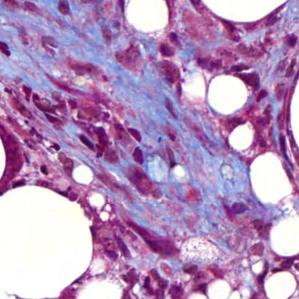steatosis: (207, 72, 249, 114), (122, 0, 173, 31)
